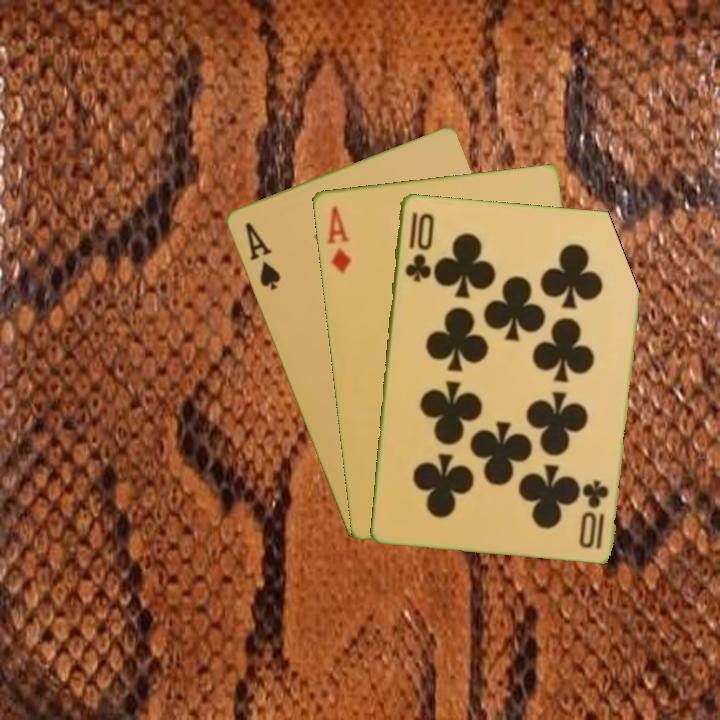10c: (401, 208, 436, 285), (578, 476, 611, 551)
Ad: (322, 202, 354, 277)
As: (240, 218, 283, 293)
